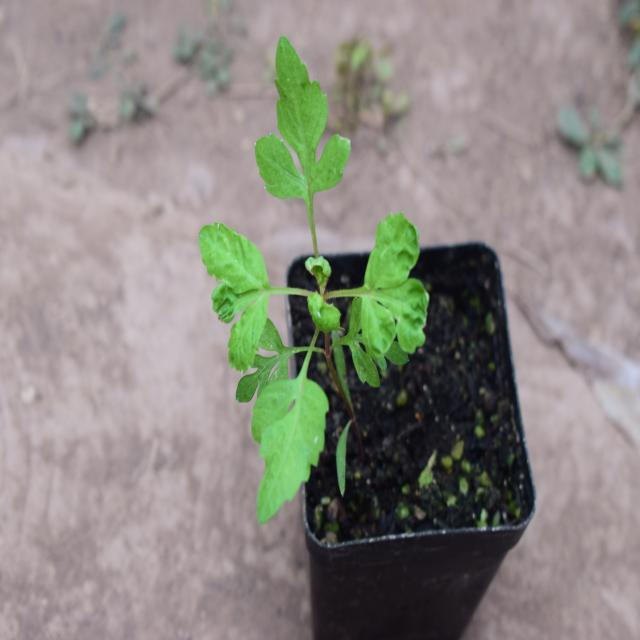Bidens pilosa: (183, 22, 435, 516)
